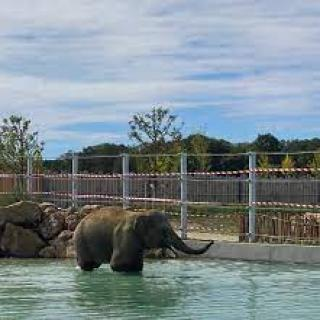Elephant: (71, 205, 219, 288)
